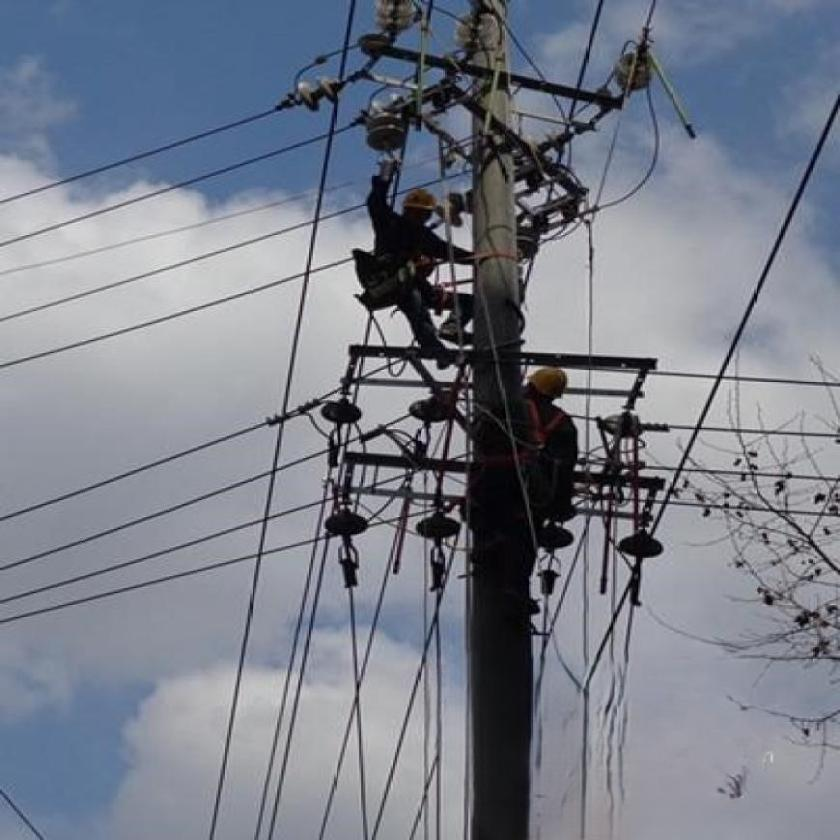Con_casco: (386, 171, 442, 229), (524, 355, 571, 414)
